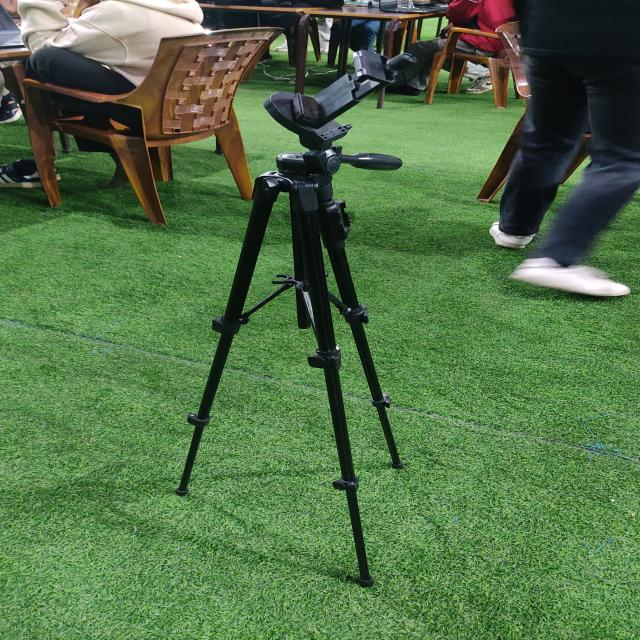Camer Stand: (166, 50, 419, 589)
